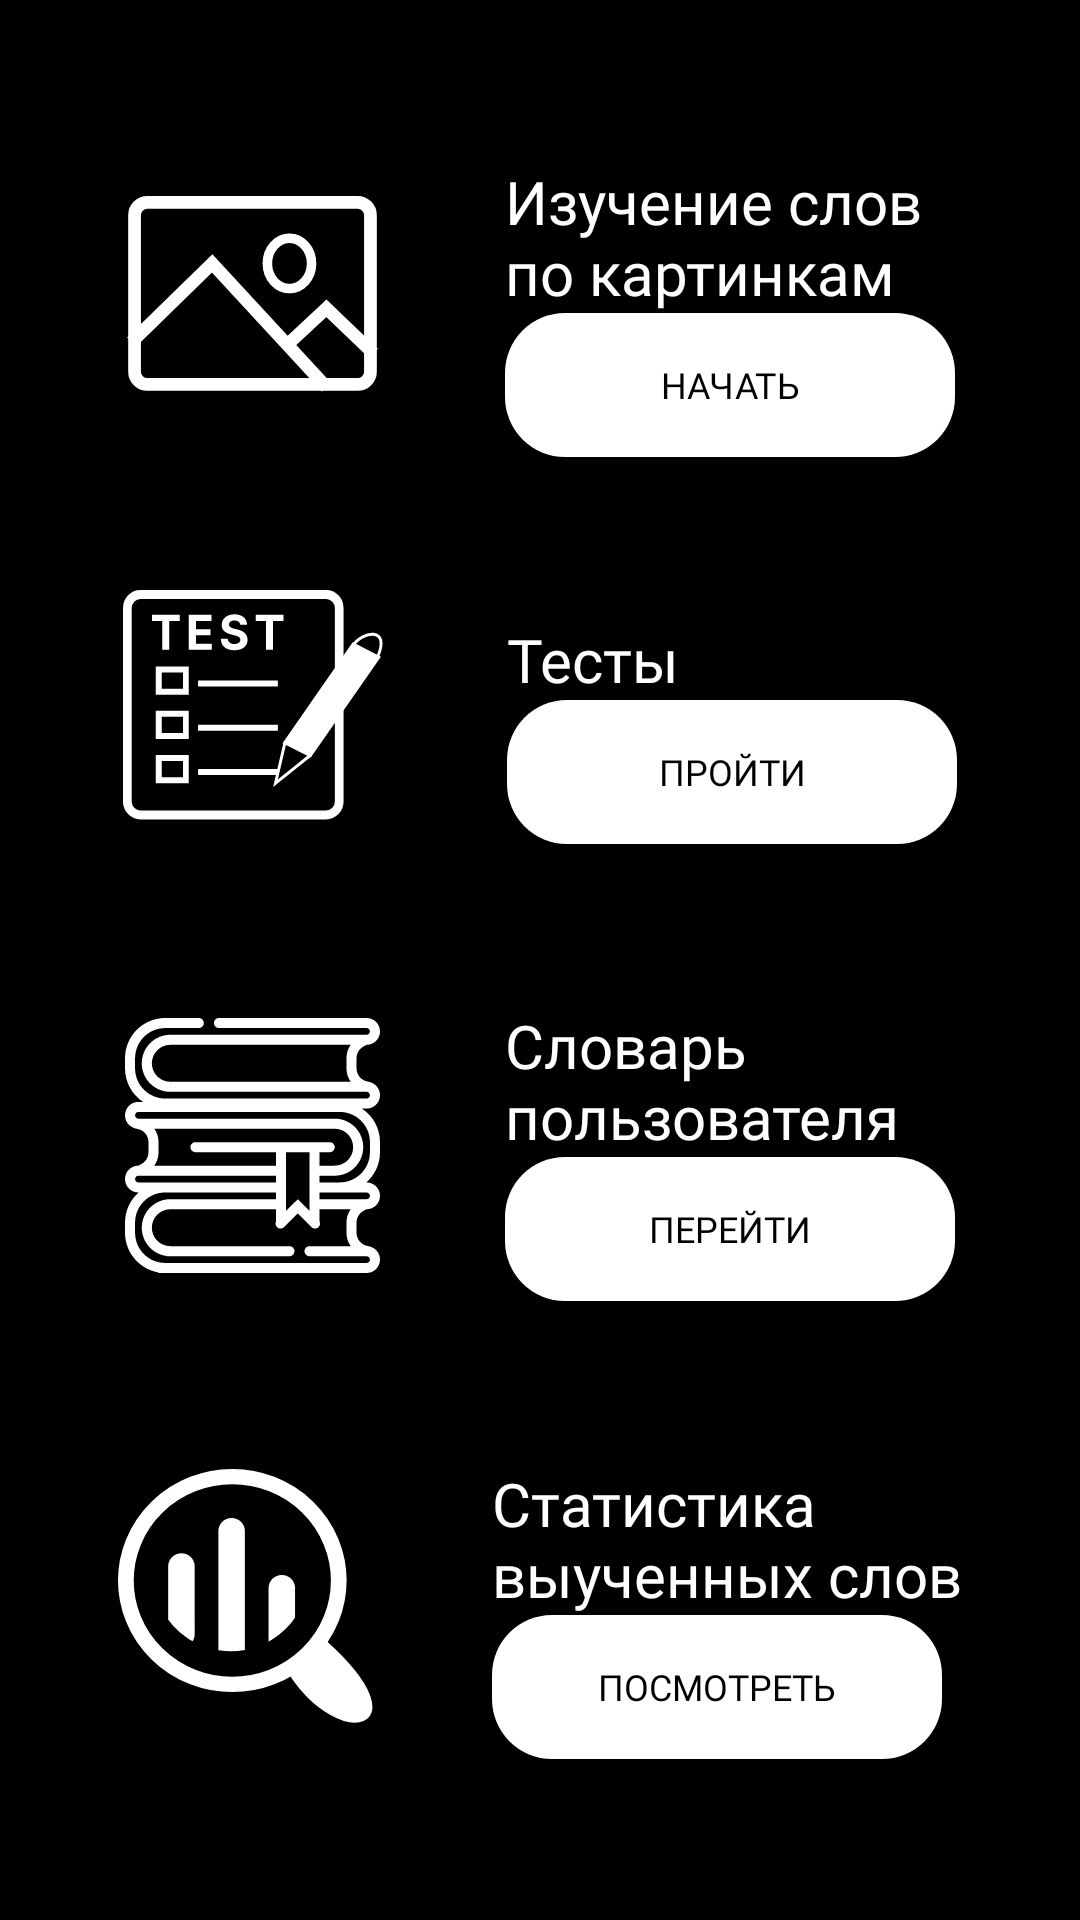

Locate icon controls on the screen. Image size 1080×1920, boxes as [x1,y1,x2,y2].
book: [125,1018,380,1273]
gallery: [127,196,378,392]
statistic: [118,1469,373,1723]
